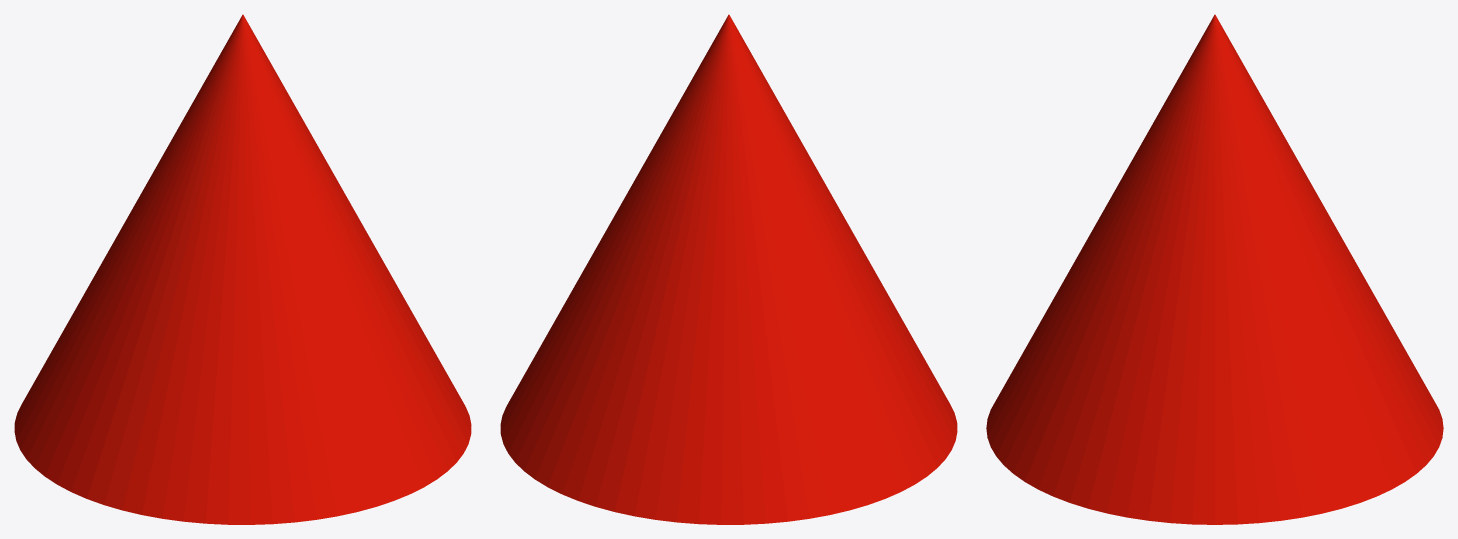
3 views of the same model, side by side, from view 1: azimuth 30°, elevation 25°; view 2: azimuth 150°, elevation 25°; view 3: azimuth 270°, elevation 25° (orthographic).
Visible parts, largest first — view 1: Cone; view 2: Cone; view 3: Cone.
Boxes of the visible parts, box(x1,y1,x2,y2) form: Cone: box(14, 14, 471, 524); Cone: box(500, 14, 957, 524); Cone: box(986, 14, 1443, 524).
Size of the model in its own units: 200 by 200 by 200.
